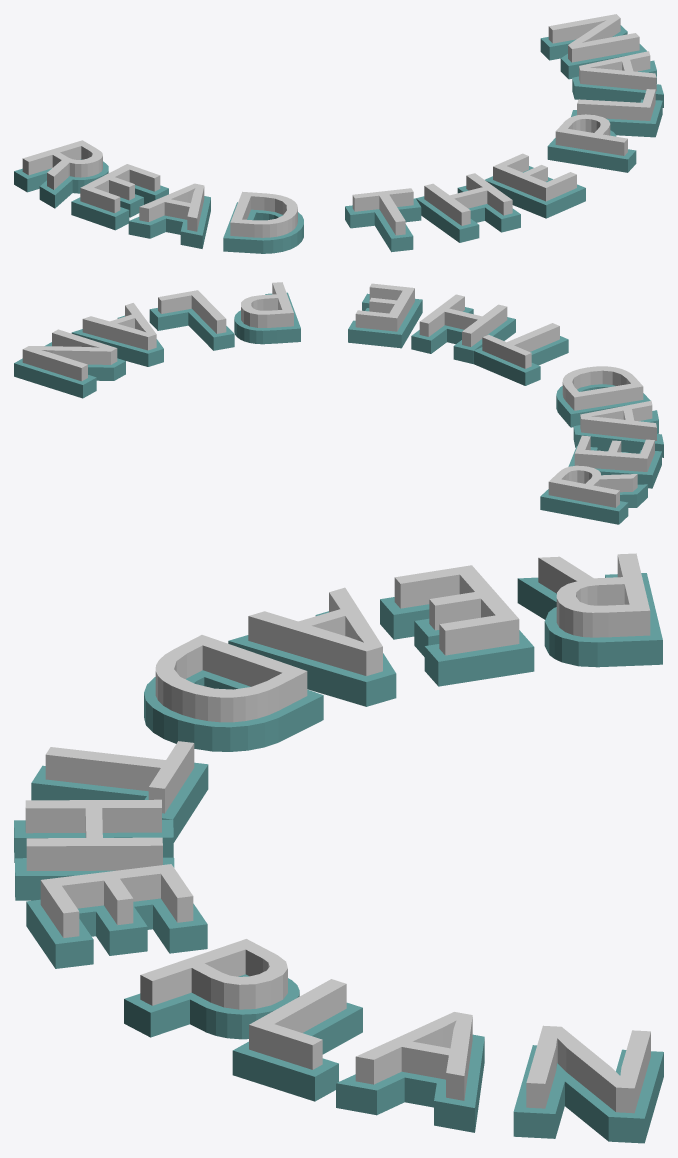
File: SIDE6-title-b.glb
3 views of the same model, one above another, from view 1: azimuth 30°, elevation 25°; view 2: azimuth 150°, elevation 25°; view 3: azimuth 270°, elevation 25° (orthographic). The views are drawn at different scales.
Visible parts, largest first — view 1: Mesh_Mesh_head_geo.001_lambert2SG.001; view 2: Mesh_Mesh_head_geo.001_lambert2SG.001; view 3: Mesh_Mesh_head_geo.001_lambert2SG.001.
Boxes of the visible parts, box(x1,y1,x2,y2) form: Mesh_Mesh_head_geo.001_lambert2SG.001: box(14, 14, 663, 253); Mesh_Mesh_head_geo.001_lambert2SG.001: box(14, 282, 663, 524); Mesh_Mesh_head_geo.001_lambert2SG.001: box(14, 553, 663, 1143).
Size of the model in its own units: 199 by 8.41 by 100.
